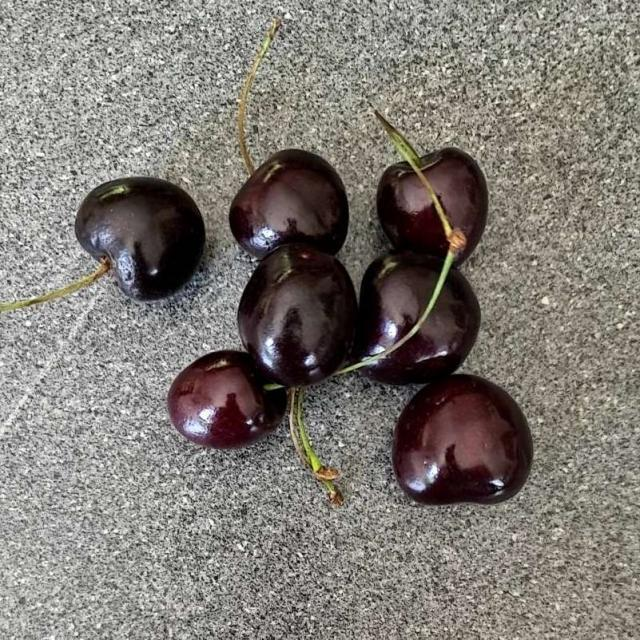cherries: (79, 146, 528, 504)
